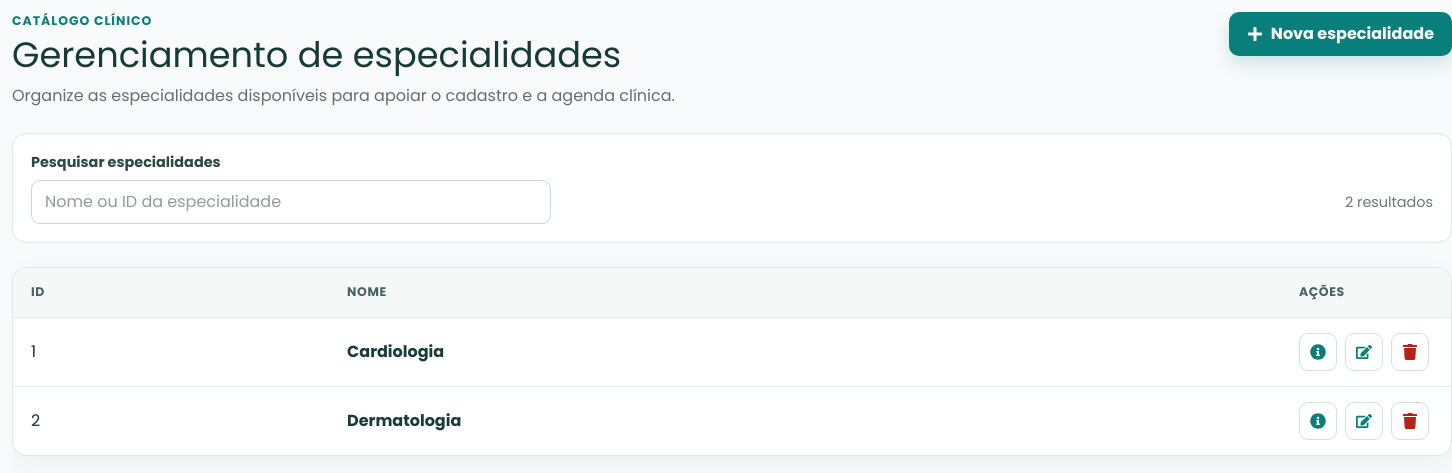
Scenario: SpecialtyList › diferencia pesquisa sem resultados de domínio vazio
In the search field labelled "Pesquisar especialidades": (291, 202) [31,180,551,224], type "Inexistente"
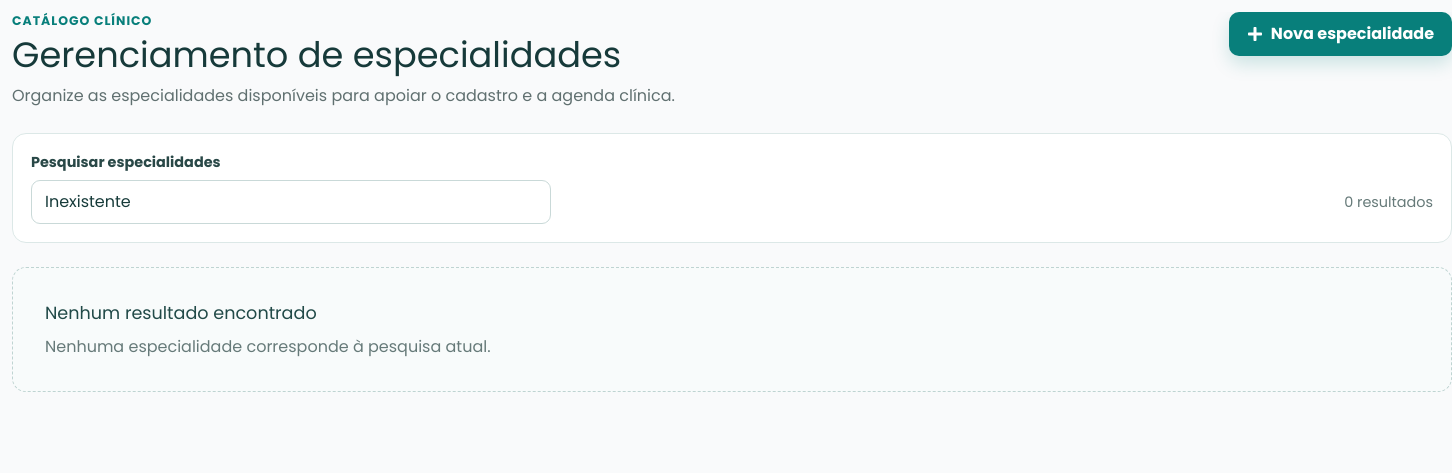
Check: the heading "Nenhum resultado encontrado" is shown, box [45,300,317,327]
Check: the text "0 resultados" is shown, box [1344,192,1433,213]
